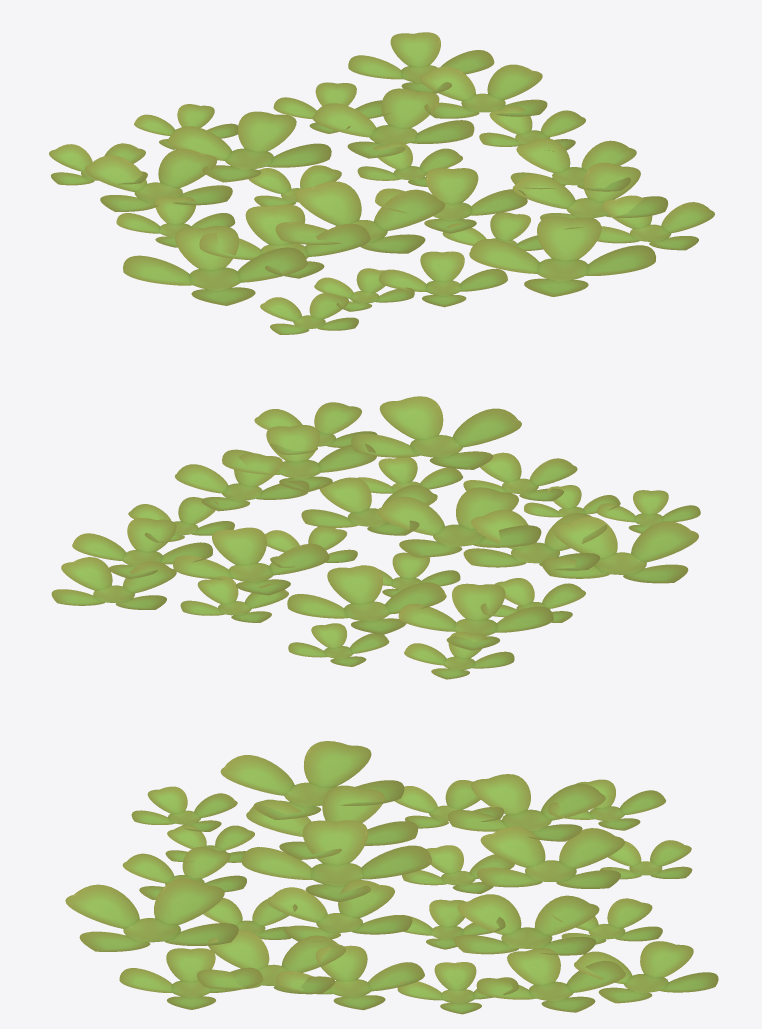
The model's file is mct_foliage_clover03.fbx.
The picture shows the model from 3 angles, top to bottom: view 1: azimuth 30°, elevation 25°; view 2: azimuth 150°, elevation 25°; view 3: azimuth 270°, elevation 25°; orthographic projection. The views are drawn at different scales.
Parts seen in each view (by area): view 1: mct_foliage_clover_03; view 2: mct_foliage_clover_03; view 3: mct_foliage_clover_03.
Boxes of the visible parts, left/top/right/bottom form: mct_foliage_clover_03: left=49, top=32, right=714, bottom=334; mct_foliage_clover_03: left=51, top=396, right=700, bottom=679; mct_foliage_clover_03: left=65, top=741, right=718, bottom=1014.
Size of the model in its own units: 243 by 17.34 by 260.
